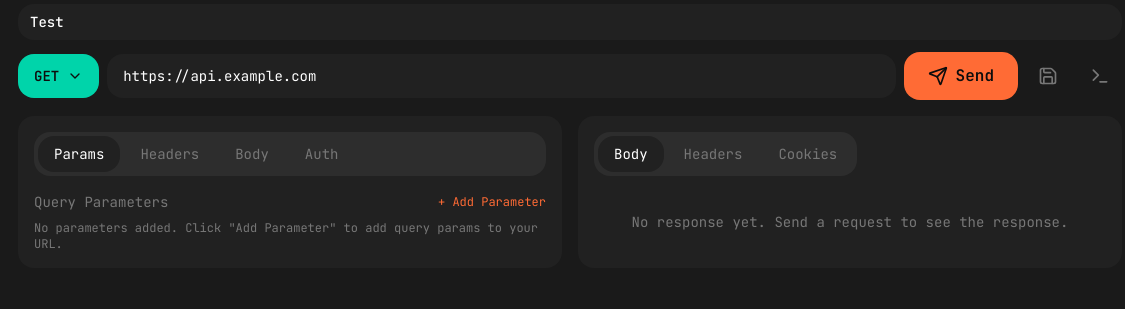
Test: RequestBuilder › changes method when selecting different method
This screenshot has width=1125, height=309.
# Click on the method button to open the dropdown
Click the button "GET" at {"x": 59, "y": 76}, box [18,54,99,98]
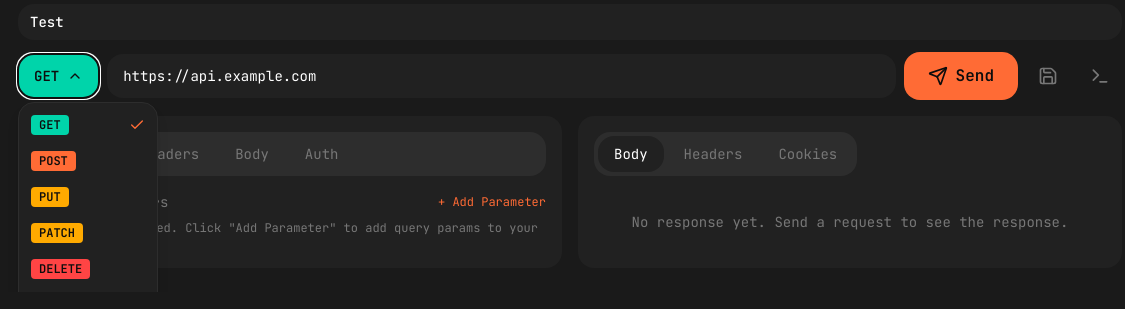
# Click on POST option in the dropdown
Click the button "POST" at {"x": 88, "y": 161}, box [19,143,157,179]
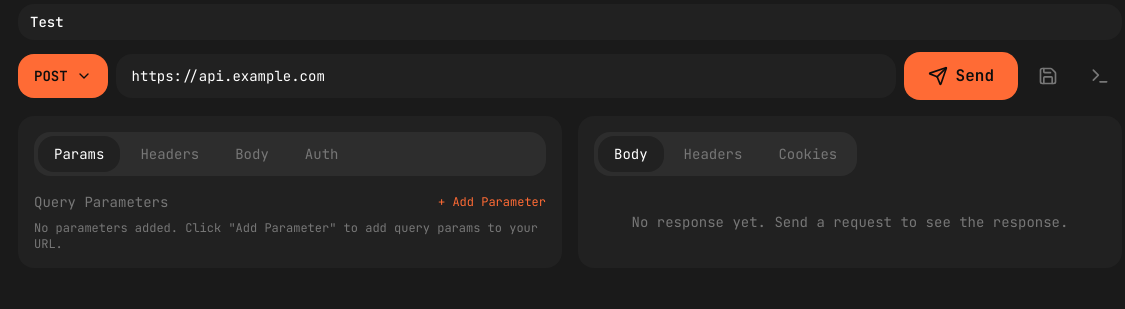
Expected: the button "POST" is shown, [18,54,108,98]
